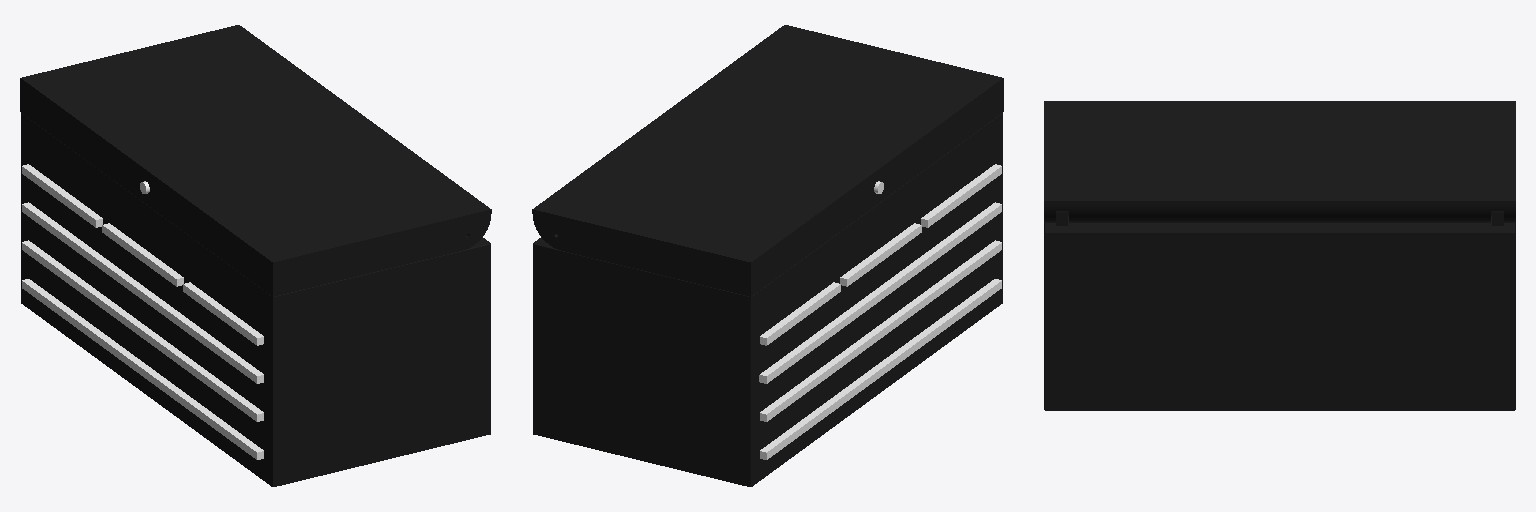
--- What the picture shows (computed from the rendered views, not written in the file) ---
The picture shows the robot from 3 angles, left to right: view 1: azimuth 30°, elevation 25°; view 2: azimuth 150°, elevation 25°; view 3: azimuth 270°, elevation 25°; orthographic projection.
Model toolbox with 19 links and 18 joints (1 revolute, 6 prismatic, 11 fixed), rooted at body, posed every joint at zero.
Visible links, largest first — view 1: lid, body, large_drawer_pull, large_drawer_pull_2, large_drawer_pull_3, large_drawer_2, large_drawer_3, large_drawer, small_drawer_pull_2, small_drawer_pull, small_drawer_pull_3, small_drawer_3 (+2 smaller); view 2: lid, body, large_drawer_pull, large_drawer_pull_2, large_drawer_pull_3, large_drawer, large_drawer_2, large_drawer_3, small_drawer_pull_2, small_drawer_pull_3, small_drawer_pull, small_drawer (+2 smaller); view 3: body, lid.
Boxes of the visible links, x1,y1,x2,y2 form: lid: (20,25,491,296); body: (21,113,490,486); large_drawer_pull: (22,202,263,383); large_drawer_pull_2: (22,240,263,421); large_drawer_pull_3: (22,279,263,459); large_drawer_2: (29,256,263,434); large_drawer_3: (29,294,263,472); large_drawer: (29,217,263,396); small_drawer_pull_2: (102,223,183,286); small_drawer_pull: (22,164,102,227); small_drawer_pull_3: (183,282,263,345); small_drawer_3: (190,297,263,358); lid: (532,25,1003,296); body: (533,113,1002,486); large_drawer_pull: (759,202,1001,383); large_drawer_pull_2: (760,240,1001,421); large_drawer_pull_3: (760,279,1001,459); large_drawer: (759,217,994,397); large_drawer_2: (760,256,994,434); large_drawer_3: (760,294,994,472); small_drawer_pull_2: (840,223,921,286); small_drawer_pull_3: (921,164,1001,227); small_drawer_pull: (760,282,840,345); small_drawer: (760,297,833,358); body: (1044,216,1515,410); lid: (1044,101,1515,222).
Bounding box of the posed robot: 0.31 × 0.6 × 0.295 m (x, y, z).
Meshes: 11 distinct files referenced, 19 mesh visuals loaded (11 OBJ).

robot.urdf — toolbox:
<!-- Sid: The toolbox color was previously (0.76862745098039220171 0.20784313725490197178 0.15294117647058824705) -->
<robot name="toolbox" xmlns:drake="http://drake.mit.edu">
    <link name="body">
        <visual>
            <origin xyz="-0.14999999999999999445 0.2999999999999999889 0"
                    rpy="-2.8042865368535819725e-17 -1.654361225106057113e-23 -3.9614402588306973713e-23"/>
            <geometry>
                <mesh filename="body.obj"/>
            </geometry>
            <material name="body_material">
                <color rgba="0.15 0.15 0.15 1.0"/>
            </material>
        </visual>
        <collision>
            <origin xyz="-0.14999999999999999445 0.2999999999999999889 0"
                    rpy="-2.8042865368535819725e-17 -1.654361225106057113e-23 -3.9614402588306973713e-23"/>
            <geometry>
                <mesh filename="body.obj"/>
            </geometry>
            <drake:proximity_properties>
                <drake:rigid_hydroelastic/>
                <drake:hunt_crossley_dissipation value="0"/>
                <drake:mu_static value="0.5"/>
                <drake:mu_dynamic value="0.42"/>
            </drake:proximity_properties>
        </collision>
        <inertial>
            <origin xyz="0.011695358968907026975 -1.042556296349287257e-05 0.11198479529296684332" rpy="0 0 0"/>
            <mass value="152.97898221658957141"/>
            <inertia ixx="6.0116061982226183247" ixy="-3.895552330722517855e-05" ixz="0.02324502612291988804"
                     iyy="2.0627635445228711397" iyz="4.8274829229118082204e-05" izz="6.7131155473412897905"/>
        </inertial>
    </link>

    <link name="small_drawer">
        <visual>
            <origin xyz="-0.088333500000000009234 -0.015000000000000013323 0"
                    rpy="1.570796326794896558 1.570796326794896558 0"/>
            <geometry>
                <mesh filename="small_drawer.obj"/>
            </geometry>
            <material name="small_drawer_material">
                <color rgba="0.15 0.15 0.15 1.0"/>
            </material>
        </visual>
        <collision>
            <origin xyz="-0.088333500000000009234 -0.015000000000000013323 0"
                    rpy="1.570796326794896558 1.570796326794896558 0"/>
            <geometry>
                <mesh filename="small_drawer.obj"/>
            </geometry>
            <drake:proximity_properties>
                <drake:rigid_hydroelastic/>
                <drake:hunt_crossley_dissipation value="0"/>
                <drake:mu_static value="0.5"/>
                <drake:mu_dynamic value="0.42"/>
            </drake:proximity_properties>
        </collision>
        <inertial>
            <origin xyz="-1.3877787807814456755e-17 0.0078125036482844835428 -0.13750000000000003886" rpy="0 0 0"/>
            <mass value="2.7736709187500001583"/>
            <inertia ixx="0.021563577637505028373" ixy="7.9291006398029180373e-36" ixz="2.976016855130949113e-41"
                     iyy="0.031074459083094477935" iyz="3.0415546004333060722e-56" izz="0.0098772730803130918964"/>
        </inertial>
    </link>

    <link name="small_drawer_pull">
        <visual>
            <origin xyz="-0.088333500000000009234 0 0.2750000000000000222"
                    rpy="1.570796326794896558 1.570796326794896558 0"/>
            <geometry>
                <mesh filename="small_drawer_pull.obj"/>
            </geometry>
            <material name="small_drawer_pull_material">
                <color rgba="0.96078431372549022438 0.96078431372549022438 0.96470588235294119084 1.0"/>
            </material>
        </visual>
        <collision>
            <origin xyz="-0.088333500000000009234 0 0.2750000000000000222"
                    rpy="1.570796326794896558 1.570796326794896558 0"/>
            <geometry>
                <mesh filename="small_drawer_pull.obj"/>
            </geometry>
            <drake:proximity_properties>
                <drake:rigid_hydroelastic/>
                <drake:hunt_crossley_dissipation value="0"/>
                <drake:mu_static value="0.5"/>
                <drake:mu_dynamic value="0.42"/>
            </drake:proximity_properties>
        </collision>
        <inertial>
            <origin xyz="-1.3877787807814456755e-17 0.0050000000000000001041 -0.0049999999999999489297" rpy="0 0 0"/>
            <mass value="0.13868359499999935447"/>
            <inertia ixx="2.3113932499999782785e-06" ixy="4.6464356819945125008e-38" ixz="-8.4630736185947180373e-45"
                     iyy="0.00036186281551619619819" iyz="-1.3292740481622866028e-43" izz="0.00036186281551619619819"/>
        </inertial>
    </link>

    <joint name="sd1-pull-fasten" type="fixed">
        <origin xyz="0 -0.015000000000000013323 -0.2750000000000000222"
                rpy="3.3087224502121103321e-24 -6.6396541575491237833e-24 -1.4021432684267953003e-17"/>
        <parent link="small_drawer"/>
        <child link="small_drawer_pull"/>
        <axis xyz="0 0 1"/>
        <limit effort="1" velocity="20"/>
        <joint_properties friction="0.0"/>
    </joint>

    <joint name="sd1-slider" type="prismatic">
        <origin xyz="0.12499999999999961142 0.19166658325000007768 0.17500000000000068279"
                rpy="-1.570796326794896558 -2.6469779601696862086e-23 -1.570796326794896558"/>
        <parent link="body"/>
        <child link="small_drawer"/>
        <axis xyz="0 0 1"/>
        <limit effort="1" velocity="20" lower="-0.25400000000000000355" upper="0"/>
        <joint_properties friction="0.15"/>
    </joint>

    <link name="small_drawer_2">
        <visual>
            <origin xyz="-0.088333499999999995356 -0.015000000000000013323 0"
                    rpy="1.570796326794896558 1.570796326794896558 0"/>
            <geometry>
                <mesh filename="small_drawer.obj"/>
            </geometry>
            <material name="small_drawer_material">
                <color rgba="0.15 0.15 0.15 1.0"/>
            </material>
        </visual>
        <collision>
            <origin xyz="-0.088333499999999995356 -0.015000000000000013323 0"
                    rpy="1.570796326794896558 1.570796326794896558 0"/>
            <geometry>
                <mesh filename="small_drawer.obj"/>
            </geometry>
            <drake:proximity_properties>
                <drake:rigid_hydroelastic/>
                <drake:hunt_crossley_dissipation value="0"/>
                <drake:mu_static value="0.5"/>
                <drake:mu_dynamic value="0.42"/>
            </drake:proximity_properties>
        </collision>
        <inertial>
            <origin xyz="5.8209632984233319929e-36 0.0078125036482844835428 -0.13750000000000003886" rpy="0 0 0"/>
            <mass value="2.7736709187500001583"/>
            <inertia ixx="0.021563577637505028373" ixy="1.343212184829243645e-35" ixz="2.2281802969224302911e-41"
                     iyy="0.031074459083094477935" iyz="-1.7122430206423392564e-41" izz="0.0098772730803130918964"/>
        </inertial>
    </link>

    <link name="small_drawer_pull_2">
        <visual>
            <origin xyz="-0.088333499999999995356 0 0.2750000000000000222"
                    rpy="1.570796326794896558 1.570796326794896558 0"/>
            <geometry>
                <mesh filename="small_drawer_pull.obj"/>
            </geometry>
            <material name="small_drawer_pull_material">
                <color rgba="0.96078431372549022438 0.96078431372549022438 0.96470588235294119084 1.0"/>
            </material>
        </visual>
        <collision>
            <origin xyz="-0.088333499999999995356 0 0.2750000000000000222"
                    rpy="1.570796326794896558 1.570796326794896558 0"/>
            <geometry>
                <mesh filename="small_drawer_pull.obj"/>
            </geometry>
            <drake:proximity_properties>
                <drake:rigid_hydroelastic/>
                <drake:hunt_crossley_dissipation value="0"/>
                <drake:mu_static value="0.5"/>
                <drake:mu_dynamic value="0.42"/>
            </drake:proximity_properties>
        </collision>
        <inertial>
            <origin xyz="-2.2448414180303325299e-41 0.0050000000000000001041 -0.0049999999999999489297" rpy="0 0 0"/>
            <mass value="0.13868359499999935447"/>
            <inertia ixx="2.3113932499999782785e-06" ixy="5.8988073473444184969e-40" ixz="3.220407850332774176e-44"
                     iyy="0.00036186281551619619819" iyz="6.6463702408114678627e-44" izz="0.00036186281551619619819"/>
        </inertial>
    </link>


    <joint name="sd2-pull-fasten" type="fixed">
        <origin xyz="-4.2351647362715016953e-19 -0.015000000000000013323 -0.2750000000000000222"
                rpy="9.9261673506363291597e-24 -1.1028361767309280012e-39 -6.6174449001690156979e-24"/>
        <parent link="small_drawer_2"/>
        <child link="small_drawer_pull_2"/>
        <axis xyz="0 0 1"/>
        <limit effort="1" velocity="20"/>
        <joint_properties friction="0.0"/>
    </joint>

    <joint name="sd2-slider" type="prismatic">
        <origin xyz="0.12500000000000008327 2.1310619808589947866e-05 0.17500121436938326225"
                rpy="-1.570796326794896558 -2.8042905073205308552e-17 -1.570796326794896558"/>
        <parent link="body"/>
        <child link="small_drawer_2"/>
        <axis xyz="0 0 1"/>
        <limit effort="1" velocity="20" lower="-0.25400000000000000355" upper="0"/>
        <joint_properties friction="0.15"/>
    </joint>

    <link name="small_drawer_3">
        <visual>
            <origin xyz="-0.088333500000000009234 -0.014999999999999985567 0"
                    rpy="1.570796326794896558 1.570796326794896558 0"/>
            <geometry>
                <mesh filename="small_drawer.obj"/>
            </geometry>
            <material name="small_drawer_material">
                <color rgba="0.15 0.15 0.15 1.0"/>
            </material>
        </visual>
        <collision>
            <origin xyz="-0.088333500000000009234 -0.014999999999999985567 0"
                    rpy="1.570796326794896558 1.570796326794896558 0"/>
            <geometry>
                <mesh filename="small_drawer.obj"/>
            </geometry>
            <drake:proximity_properties>
                <drake:rigid_hydroelastic/>
                <drake:hunt_crossley_dissipation value="0"/>
                <drake:mu_static value="0.5"/>
                <drake:mu_dynamic value="0.42"/>
            </drake:proximity_properties>
        </collision>
        <inertial>
            <origin xyz="-1.3877787807814456755e-17 0.0078125036482845112984 -0.13750000000000003886" rpy="0 0 0"/>
            <mass value="2.7736709187500001583"/>
            <inertia ixx="0.021563577637505028373" ixy="2.3506435028317320974e-35" ixz="-3.9668210070622429099e-41"
                     iyy="0.031074459083094477935" iyz="2.0791396393991286324e-42" izz="0.0098772730803130918964"/>
        </inertial>
    </link>

    <link name="small_drawer_pull_3">
        <visual>
            <origin xyz="-0.088333499999999995356 -2.7755575615628913511e-17 0.2750000000000000222"
                    rpy="1.570796326794896558 1.570796326794896558 0"/>
            <geometry>
                <mesh filename="small_drawer_pull.obj"/>
            </geometry>
            <material name="small_drawer_pull_material">
                <color rgba="0.96078431372549022438 0.96078431372549022438 0.96470588235294119084 1.0"/>
            </material>
        </visual>
        <collision>
            <origin xyz="-0.088333499999999995356 -2.7755575615628913511e-17 0.2750000000000000222"
                    rpy="1.570796326794896558 1.570796326794896558 0"/>
            <geometry>
                <mesh filename="small_drawer_pull.obj"/>
            </geometry>
            <drake:proximity_properties>
                <drake:rigid_hydroelastic/>
                <drake:hunt_crossley_dissipation value="0"/>
                <drake:mu_static value="0.5"/>
                <drake:mu_dynamic value="0.42"/>
            </drake:proximity_properties>
        </collision>
        <inertial>
            <origin xyz="9.2040641101955415234e-33 0.0049999999999999723485 -0.0049999999999999489297" rpy="0 0 0"/>
            <mass value="0.13868359499999935447"/>
            <inertia ixx="2.3113932499999782785e-06" ixy="4.6460301260471739306e-38" ixz="-1.1818232144124254021e-35"
                     iyy="0.00036186281551619619819" iyz="2.0603747786131114389e-42" izz="0.00036186281551619619819"/>
        </inertial>
    </link>

    <joint name="sd3-pull-fasten" type="fixed">
        <origin xyz="0 -0.014999999999999985567 -0.2750000000000000222"
                rpy="6.9388944622541455487e-17 -8.5226624765247392253e-16 1.4021453156988095202e-17"/>
        <parent link="small_drawer_3"/>
        <child link="small_drawer_pull_3"/>
        <axis xyz="0 0 1"/>
        <limit effort="1" velocity="20"/>
        <joint_properties friction="0.0"/>
    </joint>

    <joint name="sd3-slider" type="prismatic">
        <origin xyz="0.12500000000000002776 -0.19162204263971166496 0.17500011833207107514"
                rpy="-1.570796326794896558 -2.8042911690650190487e-17 -1.570796326794896558"/>
        <parent link="body"/>
        <child link="small_drawer_3"/>
        <axis xyz="0 0 1"/>
        <limit effort="1" velocity="20" lower="-0.25400000000000000355" upper="0"/>
        <joint_properties friction="0.15"/>
    </joint>



    <link name="large_drawer">
        <visual>
            <origin xyz="-0.28000000000000002665 -0.015000000000000013323 0"
                    rpy="1.570796326794896558 1.570796326794896558 0"/>
            <geometry>
                <mesh filename="large_drawer.obj"/>
            </geometry>
            <material name="large_drawer_material">
                <color rgba="0.15 0.15 0.15 1.0"/>
            </material>
        </visual>
        <collision>
            <origin xyz="-0.28000000000000002665 -0.015000000000000013323 0"
                    rpy="1.570796326794896558 1.570796326794896558 0"/>
            <geometry>
                <mesh filename="large_drawer.obj"/>
            </geometry>
            <drake:proximity_properties>
                <drake:rigid_hydroelastic/>
                <drake:hunt_crossley_dissipation value="0"/>
                <drake:mu_static value="0.5"/>
                <drake:mu_dynamic value="0.42"/>
            </drake:proximity_properties>
        </collision>
        <inertial>
            <origin xyz="6.2084261560793879319e-36 0.0093309859154929418457 -0.13750000000000003886" rpy="0 0 0"/>
            <mass value="7.6635625000000020535"/>
            <inertia ixx="0.061552201844923715157" ixy="7.346202175018192188e-35" ixz="5.4754089615728361746e-41"
                     iyy="0.28790056940104180594" iyz="2.8179583077779060858e-55" izz="0.22711685848554882816"/>
        </inertial>
    </link>

    <link name="large_drawer_pull">
        <visual>
            <origin xyz="-0.28000000000000002665 0 0.2750000000000000222"
                    rpy="1.570796326794896558 1.570796326794896558 0"/>
            <geometry>
                <mesh filename="large_drawer_pull.obj"/>
            </geometry>
            <material name="large_drawer_pull_material">
                <color rgba="0.96078431372549022438 0.96078431372549022438 0.96470588235294119084 1.0"/>
            </material>
        </visual>
        <collision>
            <origin xyz="-0.28000000000000002665 0 0.2750000000000000222"
                    rpy="1.570796326794896558 1.570796326794896558 0"/>
            <geometry>
                <mesh filename="large_drawer_pull.obj"/>
            </geometry>
            <drake:proximity_properties>
                <drake:rigid_hydroelastic/>
                <drake:hunt_crossley_dissipation value="0"/>
                <drake:mu_static value="0.5"/>
                <drake:mu_dynamic value="0.42"/>
            </drake:proximity_properties>
        </collision>
        <inertial>
            <origin xyz="-6.7403990638322382979e-18 0.0050000000000000001041 -0.0050000000000000044409" rpy="0 0 0"/>
            <mass value="0.43959999999999804787"/>
            <inertia ixx="7.3266666666665993419e-06" ixy="1.4670947874766101162e-36" ixz="2.7646589310190778233e-19"
                     iyy="0.011491876666666614101" iyz="5.9979442115912754608e-56" izz="0.011491876666666614101"/>
        </inertial>
    </link>

    <joint name="ld3-pull-fasten" type="fixed">
        <origin xyz="-4.2012834183813296818e-19 -0.015000000000000013323 -0.2750000000000000222"
                rpy="3.929107909626880721e-24 -7.0614367134521505686e-24 -1.4021439301712853427e-17"/>
        <parent link="large_drawer"/>
        <child link="large_drawer_pull"/>
        <axis xyz="0 0 1"/>
        <limit effort="1" velocity="20"/>
        <joint_properties friction="0.0"/>
    </joint>

    <joint name="ld3-slider" type="prismatic">
        <origin xyz="0.125 1.5739445722529055161e-05 0.12500102668739296319"
                rpy="-1.570796326794896558 -2.6469779601696862086e-23 -1.570796326794896558"/>
        <parent link="body"/>
        <child link="large_drawer"/>
        <axis xyz="0 0 1"/>
        <limit effort="1" velocity="20" lower="-0.25400000000000000355" upper="0"/>
        <joint_properties friction="0.15"/>
    </joint>

    <link name="large_drawer_2">
        <visual>
            <origin xyz="-0.28000000000000002665 -0.014999999999999999445 0"
                    rpy="1.570796326794896558 1.570796326794896558 0"/>
            <geometry>
                <mesh filename="large_drawer.obj"/>
            </geometry>
            <material name="large_drawer_material">
                <color rgba="0.15 0.15 0.15 1.0"/>
            </material>
        </visual>
        <collision>
            <origin xyz="-0.28000000000000002665 -0.014999999999999999445 0"
                    rpy="1.570796326794896558 1.570796326794896558 0"/>
            <geometry>
                <mesh filename="large_drawer.obj"/>
            </geometry>
            <drake:proximity_properties>
                <drake:rigid_hydroelastic/>
                <drake:hunt_crossley_dissipation value="0"/>
                <drake:mu_static value="0.5"/>
                <drake:mu_dynamic value="0.42"/>
            </drake:proximity_properties>
        </collision>
        <inertial>
            <origin xyz="6.2084261560793879319e-36 0.0093309859154929557234 -0.13750000000000003886" rpy="0 0 0"/>
            <mass value="7.6635625000000020535"/>
            <inertia ixx="0.061552201844923715157" ixy="7.346202175018192188e-35" ixz="5.4754089615728361746e-41"
                     iyy="0.28790056940104180594" iyz="2.8179583077779060858e-55" izz="0.22711685848554882816"/>
        </inertial>
    </link>

    <link name="large_drawer_pull_2">
        <visual>
            <origin xyz="-0.28000000000000002665 -1.3877787807814456755e-17 0.2750000000000000222"
                    rpy="1.570796326794896558 1.570796326794896558 0"/>
            <geometry>
                <mesh filename="large_drawer_pull.obj"/>
            </geometry>
            <material name="large_drawer_pull_material">
                <color rgba="0.96078431372549022438 0.96078431372549022438 0.96470588235294119084 1.0"/>
            </material>
        </visual>
        <collision>
            <origin xyz="-0.28000000000000002665 -1.3877787807814456755e-17 0.2750000000000000222"
                    rpy="1.570796326794896558 1.570796326794896558 0"/>
            <geometry>
                <mesh filename="large_drawer_pull.obj"/>
            </geometry>
            <drake:proximity_properties>
                <drake:rigid_hydroelastic/>
                <drake:hunt_crossley_dissipation value="0"/>
                <drake:mu_static value="0.5"/>
                <drake:mu_dynamic value="0.42"/>
            </drake:proximity_properties>
        </collision>
        <inertial>
            <origin xyz="-6.7403990638322382979e-18 0.0049999999999999862263 -0.0050000000000000044409" rpy="0 0 0"/>
            <mass value="0.43959999999999804787"/>
            <inertia ixx="7.3266666666665993419e-06" ixy="1.4670947874766101162e-36" ixz="2.7646589310190778233e-19"
                     iyy="0.011491876666666614101" iyz="5.9979442115912754608e-56" izz="0.011491876666666614101"/>
        </inertial>
    </link>

    <joint name="ld2-pull-fasten" type="fixed">
        <origin xyz="-4.2097537478538726852e-19 -0.014999999999999999445 -0.2750000000000000222"
                rpy="3.929107909626880721e-24 -7.0614367134521505686e-24 -1.4021439301712853427e-17"/>
        <parent link="large_drawer_2"/>
        <child link="large_drawer_pull_2"/>
        <axis xyz="0 0 1"/>
        <limit effort="1" velocity="20"/>
        <joint_properties friction="0.0"/>
    </joint>

    <joint name="ld2-slider" type="prismatic">
        <origin xyz="0.12499999999999997224 5.9832797558168060448e-06 0.075000966890758885564"
                rpy="-1.570796326794896558 -2.6469779601696862086e-23 -1.570796326794896558"/>
        <parent link="body"/>
        <child link="large_drawer_2"/>
        <axis xyz="0 0 1"/>
        <limit effort="1" velocity="20" lower="-0.25400000000000000355" upper="0"/>
        <joint_properties friction="0.15"/>
    </joint>

    <link name="large_drawer_3">
        <visual>
            <origin xyz="-0.28000000000000002665 -0.014999999999999999445 0"
                    rpy="1.570796326794896558 1.570796326794896558 0"/>
            <geometry>
                <mesh filename="large_drawer.obj"/>
            </geometry>
            <material name="large_drawer_material">
                <color rgba="0.15 0.15 0.15 1.0"/>
            </material>
        </visual>
        <collision>
            <origin xyz="-0.28000000000000002665 -0.014999999999999999445 0"
                    rpy="1.570796326794896558 1.570796326794896558 0"/>
            <geometry>
                <mesh filename="large_drawer.obj"/>
            </geometry>
            <drake:proximity_properties>
                <drake:rigid_hydroelastic/>
                <drake:hunt_crossley_dissipation value="0"/>
                <drake:mu_static value="0.5"/>
                <drake:mu_dynamic value="0.42"/>
            </drake:proximity_properties>
        </collision>
        <inertial>
            <origin xyz="6.2084261560793879319e-36 0.0093309859154929557234 -0.13750000000000003886" rpy="0 0 0"/>
            <mass value="7.6635625000000020535"/>
            <inertia ixx="0.061552201844923715157" ixy="7.346202175018192188e-35" ixz="5.4754089615728361746e-41"
                     iyy="0.28790056940104180594" iyz="2.8179583077779060858e-55" izz="0.22711685848554882816"/>
        </inertial>
    </link>

    <link name="large_drawer_pull_3">
        <visual>
            <origin xyz="-0.28000000000000002665 6.9388939039072283776e-18 0.2750000000000000222"
                    rpy="1.570796326794896558 1.570796326794896558 0"/>
            <geometry>
                <mesh filename="large_drawer_pull.obj"/>
            </geometry>
            <material name="large_drawer_pull_material">
                <color rgba="0.96078431372549022438 0.96078431372549022438 0.96470588235294119084 1.0"/>
            </material>
        </visual>
        <collision>
            <origin xyz="-0.28000000000000002665 6.9388939039072283776e-18 0.2750000000000000222"
                    rpy="1.570796326794896558 1.570796326794896558 0"/>
            <geometry>
                <mesh filename="large_drawer_pull.obj"/>
            </geometry>
            <drake:proximity_properties>
                <drake:rigid_hydroelastic/>
                <drake:hunt_crossley_dissipation value="0"/>
                <drake:mu_static value="0.5"/>
                <drake:mu_dynamic value="0.42"/>
            </drake:proximity_properties>
        </collision>
        <inertial>
            <origin xyz="-6.7403990638322382979e-18 0.005000000000000007043 -0.0050000000000000044409" rpy="0 0 0"/>
            <mass value="0.43959999999999804787"/>
            <inertia ixx="7.3266666666665993419e-06" ixy="1.4670947874766101162e-36" ixz="2.7646589310190778233e-19"
                     iyy="0.011491876666666614101" iyz="5.9979442115912754608e-56" izz="0.011491876666666614101"/>
        </inertial>
    </link>

    <joint name="ld1-pull-fasten" type="fixed">
        <origin xyz="-4.2063208656732668243e-19 -0.014999999999999999445 -0.2750000000000000222"
                rpy="3.929107909626880721e-24 -7.0614367134521505686e-24 -1.4021439301712853427e-17"/>
        <parent link="large_drawer_3"/>
        <child link="large_drawer_pull_3"/>
        <axis xyz="0 0 1"/>
        <limit effort="1" velocity="20"/>
        <joint_properties friction="0.0"/>
    </joint>

    <joint name="ld1-slider" type="prismatic">
        <origin xyz="0.12500000000000011102 0 0.025000000000000077716"
                rpy="-1.570796326794896558 -2.6469779601696862086e-23 -1.570796326794896558"/>
        <parent link="body"/>
        <child link="large_drawer_3"/>
        <axis xyz="0 0 1"/>
        <limit effort="1" velocity="20" lower="-0.25400000000000000355" upper="0"/>
        <joint_properties friction="0.15"/>
    </joint>



    <link name="lid_joiner_l">
        <visual>
            <origin xyz="-0.28000000000000002665 0.22500000000000000555 0.020000000000000017764"
                    rpy="1.570796326794896558 -9.9047818018953405703e-20 3.6150882852452903921e-40"/>
            <geometry>
                <mesh filename="lid_joiner_l.obj"/>
            </geometry>
            <material name="lid_joiner_l_material">
                <color rgba="0.15 0.15 0.15 1.0"/>
            </material>
        </visual>
        <collision>
            <origin xyz="-0.28000000000000002665 0.22500000000000000555 0.020000000000000017764"
                    rpy="1.570796326794896558 -9.9047818018953405703e-20 3.6150882852452903921e-40"/>
            <geometry>
                <mesh filename="lid_joiner_l.obj"/>
            </geometry>
            <drake:proximity_properties>
                <drake:rigid_hydroelastic/>
                <drake:hunt_crossley_dissipation value="0"/>
                <drake:mu_static value="0.5"/>
                <drake:mu_dynamic value="0.42"/>
            </drake:proximity_properties>
        </collision>
        <inertial>
            <origin xyz="-0.012500000000000011102 0 -0.0049999999999999862263" rpy="0 0 0"/>
            <mass value="0.098125000000000045519"/>
            <inertia ixx="2.1260416666666667317e-05" ixy="5.2091184683949314178e-39" ixz="-4.2520918751106361827e-25"
                     iyy="5.9283854166666770776e-06" iyz="-2.4793530576267619014e-22" izz="2.5553385416666678069e-05"/>
        </inertial>
    </link>

    <link name="lid_hinge_l">
        <visual>
            <origin xyz="-0.26750000000000001554 -0.029999999999999971134 0.25"
                    rpy="3.141592653589793116 3.7524433858002099508e-40 1.7522112846523654271e-34"/>
            <geometry>
                <mesh filename="lid_hinge_l.obj"/>
            </geometry>
            <material name="lid_hinge_l_material">
                <color rgba="0.15 0.15 0.15 1.0"/>
            </material>
        </visual>
        <collision>
            <origin xyz="-0.26750000000000001554 -0.029999999999999971134 0.25"
                    rpy="3.141592653589793116 3.7524433858002099508e-40 1.7522112846523654271e-34"/>
            <geometry>
                <mesh filename="lid_hinge_l.obj"/>
            </geometry>
            <drake:proximity_properties>
                <drake:rigid_hydroelastic/>
                <drake:hunt_crossley_dissipation value="0"/>
                <drake:mu_static value="0.5"/>
                <drake:mu_dynamic value="0.42"/>
            </drake:proximity_properties>
        </collision>
        <inertial>
            <origin xyz="5.5511151231257827021e-17 -0.0074999999999999719669 -0.013773002877300377644" rpy="0 0 0"/>
            <mass value="0.078722906673633116781"/>
            <inertia ixx="6.8151732829467751533e-06" ixy="-4.5415317209311230902e-40" ixz="-5.3361052108380255145e-41"
                     iyy="9.1965354493068090017e-06" iyz="-2.2582159702136936409e-38" izz="5.3334711666212771344e-06"/>
        </inertial>
    </link>

    <link name="lid">
        <visual>
            <origin xyz="-0.26750000000000001554 -0.018000000000000015987 -0.015000000000000013323"
                    rpy="-1.570796326794896558 -6.2780683123642719144e-18 0"/>
            <geometry>
                <mesh filename="lid.obj"/>
            </geometry>
            <material name="lid_material">
                <color rgba="0.15 0.15 0.15 1.0"/>
            </material>
        </visual>
        <collision>
            <origin xyz="-0.26750000000000001554 -0.018000000000000015987 -0.015000000000000013323"
                    rpy="-1.570796326794896558 -6.2780683123642719144e-18 0"/>
            <geometry>
                <mesh filename="lid.obj"/>
            </geometry>
            <drake:proximity_properties>
                <drake:rigid_hydroelastic/>
                <drake:hunt_crossley_dissipation value="0"/>
                <drake:mu_static value="0.5"/>
                <drake:mu_dynamic value="0.42"/>
            </drake:proximity_properties>
        </collision>
        <inertial>
            <origin xyz="-0.11590000346555999478 0.011034665928606079977 0.28500000000000041966" rpy="0 0 0"/>
            <mass value="41.761696962515770792"/>
            <inertia ixx="1.3283067546464044639" ixy="0.0013072190997971628104" ixz="-2.2573686794444226961e-15"
                     iyy="1.6723864333297420171" iyz="2.2931262883109760565e-16" izz="0.35355824350164488656"/>
        </inertial>
    </link>

    <link name="lock">
        <visual>
            <origin xyz="0.2999999999999999889 -0.022499999999999964473 0"
                    rpy="-1.570796326794896558 -1.570796326794896558 0"/>
            <geometry>
                <mesh filename="lock.obj"/>
            </geometry>
            <material name="lock_material">
                <color rgba="0.96078431372549022438 0.96078431372549022438 0.96470588235294119084 1.0"/>
            </material>
        </visual>
        <collision>
            <origin xyz="0.2999999999999999889 -0.022499999999999964473 0"
                    rpy="-1.570796326794896558 -1.570796326794896558 0"/>
            <geometry>
                <mesh filename="lock.obj"/>
            </geometry>
            <drake:proximity_properties>
                <drake:rigid_hydroelastic/>
                <drake:hunt_crossley_dissipation value="0"/>
                <drake:mu_static value="0.5"/>
                <drake:mu_dynamic value="0.42"/>
            </drake:proximity_properties>
        </collision>
        <inertial>
            <origin xyz="4.327016640579011761e-34 3.4694469519536141888e-17 -0.002500000000000000052" rpy="0 0 0"/>
            <mass value="0.0069360475305037180838"/>
            <inertia ixx="1.1198826741959133526e-07" ixy="2.1614412071847175756e-39" ixz="-3.9388239264816041468e-40"
                     iyy="1.1198826741959134849e-07" iyz="-9.292396399551258394e-39" izz="1.9507633679541716208e-07"/>
        </inertial>
    </link>

    <joint name="lock-fasten" type="fixed">
        <origin xyz="-0.26750000000000001554 0.0045000000000000039968 0.28499999999999997558"
                rpy="5.898059818321287102e-16 1.570796326794896558 0"/>
        <parent link="lid"/>
        <child link="lock"/>
        <axis xyz="0 0 1"/>
        <limit effort="1" velocity="20"/>
        <joint_properties friction="0.0"/>
    </joint>

    <joint name="hinge-rev-1" type="revolute">
        <origin xyz="-8.3266726846886740532e-17 -0.014999999999999846789 -0.017999999999999793943"
                rpy="-1.570796326794896558 2.775556734890707047e-17 -2.3661771082660086051e-17"/>
        <parent link="lid_hinge_l"/>
        <child link="lid"/>
        <axis xyz="0 0 1"/>
        <limit effort="1" velocity="20" lower="-0.785398163397448279" upper="0"/>
        <joint_properties friction="0.8"/>
    </joint>

    <joint name="lid-l-joiner-fasten" type="fixed">
        <origin xyz="-0.012500000000000011102 -0.024999999999999994449 -0.0099999999999999533706"
                rpy="-1.570796326794896558 -9.9048350145610456982e-20 -1.6989160639143194618e-28"/>
        <parent link="lid_joiner_l"/>
        <child link="lid_hinge_l"/>
        <axis xyz="0 0 1"/>
        <limit effort="1" velocity="20"/>
        <joint_properties friction="0.0"/>
    </joint>

    <joint name="l hinge body fasten" type="fixed">
        <origin xyz="0.1300000000000000322 0.28000000000000119238 0.22500000000000086597"
                rpy="-1.570796326794896558 -8.2665520855937146157e-24 -3.0637249773393151467e-18"/>
        <parent link="body"/>
        <child link="lid_joiner_l"/>
        <axis xyz="0 0 1"/>
        <limit effort="1" velocity="20"/>
        <joint_properties friction="0.0"/>
    </joint>

    <link name="hinge_joiner_r">
        <visual>
            <origin xyz="-0.28000000000000002665 -0.22500000000000006106 -0.57999999999999996003"
                    rpy="-1.57079632679489678 3.8034361914197046169e-17 -3.6734194692018627405e-40"/>
            <geometry>
                <mesh filename="hinge_joiner_r.obj"/>
            </geometry>
            <material name="hinge_joiner_r_material">
                <color rgba="0.15 0.15 0.15 1.0"/>
            </material>
        </visual>
        <collision>
            <origin xyz="-0.28000000000000002665 -0.22500000000000006106 -0.57999999999999996003"
                    rpy="-1.57079632679489678 3.8034361914197046169e-17 -3.6734194692018627405e-40"/>
            <geometry>
                <mesh filename="hinge_joiner_r.obj"/>
            </geometry>
            <drake:proximity_properties>
                <drake:rigid_hydroelastic/>
                <drake:hunt_crossley_dissipation value="0"/>
                <drake:mu_static value="0.5"/>
                <drake:mu_dynamic value="0.42"/>
            </drake:proximity_properties>
        </collision>
        <inertial>
            <origin xyz="-0.012500000000000011102 0 -0.0050000000000000339312" rpy="0 0 0"/>
            <mass value="0.098125000000000142664"/>
            <inertia ixx="2.1260416666666694422e-05" ixy="1.1764749318391254727e-37" ixz="1.632803271238384725e-22"
                     iyy="5.9283854166666855479e-06" iyz="1.7423532079671240379e-21" izz="2.5553385416666705174e-05"/>
        </inertial>
    </link>

    <link name="hinge_r">
        <visual>
            <origin xyz="-0.26749999999999996003 -0.57000000000000006217 0.25"
                    rpy="3.141592653589793116 2.6596062820656147246e-40 -9.14227980394379499e-34"/>
            <geometry>
                <mesh filename="hinge_r.obj"/>
            </geometry>
            <material name="hinge_r_material">
                <color rgba="0.15 0.15 0.15 1.0"/>
            </material>
        </visual>
        <collision>
            <origin xyz="-0.26749999999999996003 -0.57000000000000006217 0.25"
                    rpy="3.141592653589793116 2.6596062820656147246e-40 -9.14227980394379499e-34"/>
            <geometry>
                <mesh filename="hinge_r.obj"/>
            </geometry>
            <drake:proximity_properties>
                <drake:rigid_hydroelastic/>
                <drake:hunt_crossley_dissipation value="0"/>
                <drake:mu_static value="0.5"/>
                <drake:mu_dynamic value="0.42"/>
            </drake:proximity_properties>
        </collision>
        <inertial>
            <origin xyz="5.5511151231257827021e-17 0.0074999999999999520175 -0.013773002877300322133" rpy="0 0 0"/>
            <mass value="0.07872290667363318617"/>
            <inertia ixx="6.8151732829467844707e-06" ixy="2.1373504244242013788e-38" ixz="-5.3359175876315933107e-41"
                     iyy="9.1965354493068191661e-06" iyz="-1.697549444580798486e-38" izz="5.3334711666212839107e-06"/>
        </inertial>
    </link>

    <joint name="hinge-joiner-r-fasten" type="fixed">
        <origin xyz="-0.012500000000000011102 0.025000000000000077716 -0.0099999999999999533706"
                rpy="1.570796326794896558 3.8034362446323687476e-17 6.5225896684855843434e-26"/>
        <parent link="hinge_joiner_r"/>
        <child link="hinge_r"/>
        <axis xyz="0 0 1"/>
        <limit effort="1" velocity="20"/>
        <joint_properties friction="0.0"/>
    </joint>

    <joint name="r hinge body fasten" type="fixed">
        <origin xyz="0.1300000000000000322 -0.28000000000000113687 0.22500000000000089373"
                rpy="1.570796326794896558 -8.2718060926291185097e-24 -2.0609506163222272474e-23"/>
        <parent link="body"/>
        <child link="hinge_joiner_r"/>
        <axis xyz="0 0 1"/>
        <limit effort="1" velocity="20"/>
        <joint_properties friction="0.0"/>
    </joint>

    <drake:collision_filter_group name="toolbox_parts">
        <drake:member link="body"/>
        <drake:member link="lid"/>
        <drake:member link="small_drawer"/>
        <drake:member link="small_drawer_pull"/>
        <drake:member link="small_drawer_2"/>
        <drake:member link="small_drawer_pull_2"/>
        <drake:member link="small_drawer_3"/>
        <drake:member link="small_drawer_pull_3"/>
        <drake:member link="large_drawer"/>
        <drake:member link="large_drawer_pull"/>
        <drake:member link="large_drawer_2"/>
        <drake:member link="large_drawer_pull_2"/>
        <drake:member link="large_drawer_3"/>
        <drake:member link="large_drawer_pull_3"/>
        <drake:member link="lid_joiner_l"/>
        <drake:member link="lid_hinge_l"/>
        <drake:member link="lock"/>
        <drake:member link="hinge_r"/>
        <drake:member link="hinge_joiner_r"/>
        <drake:ignored_collision_filter_group name="toolbox_parts"/>
    </drake:collision_filter_group>

</robot>
